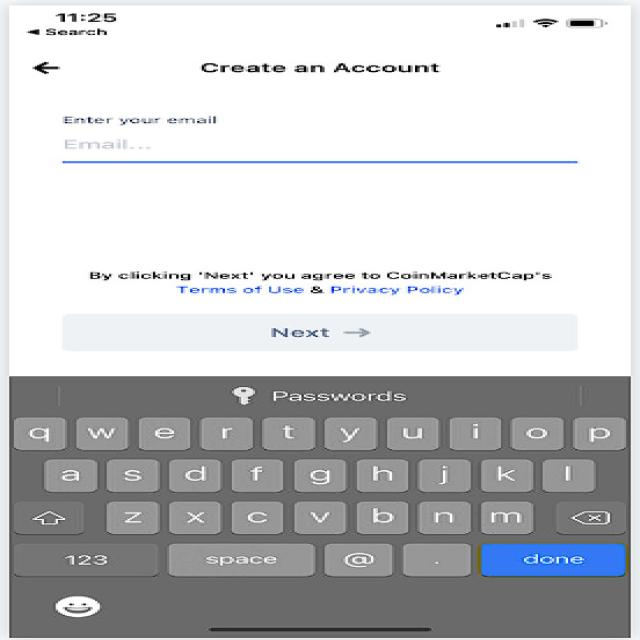button: (30, 302, 613, 363)
icon button: (15, 49, 78, 79)
input: (38, 98, 622, 178)
text: (56, 262, 594, 301), (178, 48, 477, 81)
